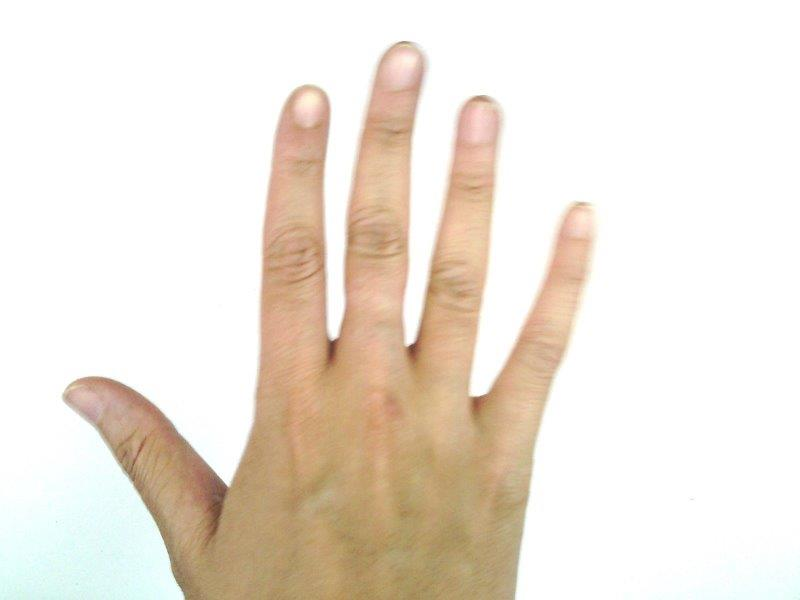hand: (63, 44, 595, 600)
